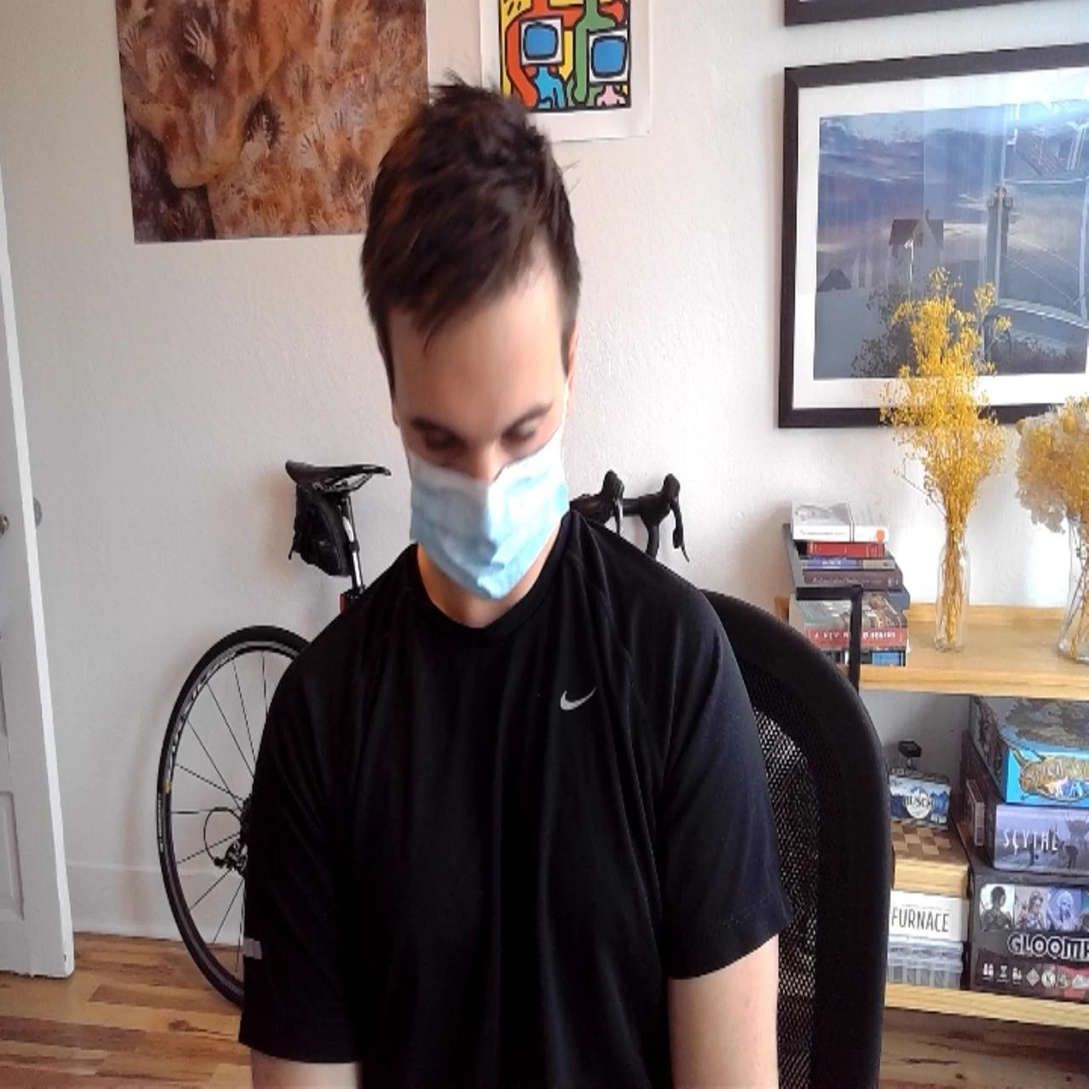NO_Safety_Vest: (321, 544, 702, 1089)
Person: (219, 86, 828, 1089)
